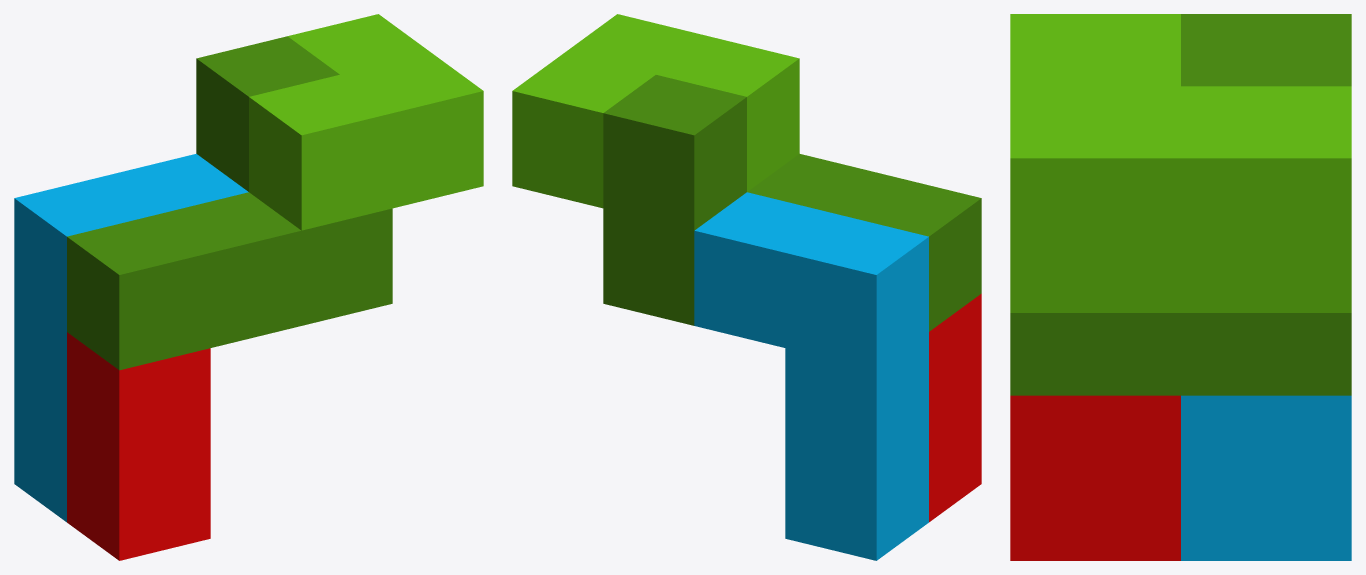
3 renders of one model, left to right at view 1: azimuth 30°, elevation 25°; view 2: azimuth 150°, elevation 25°; view 3: azimuth 270°, elevation 25°, orthographic. The views are drawn at different scales.
Visible parts, largest first — view 1: mergedBlocks(Clone); view 2: mergedBlocks(Clone); view 3: mergedBlocks(Clone).
Part boxes in pixels (bbox=[...]): mergedBlocks(Clone): bbox=[14, 14, 483, 560]; mergedBlocks(Clone): bbox=[512, 14, 981, 560]; mergedBlocks(Clone): bbox=[1010, 14, 1351, 560].
Size of the model in its own units: 4 by 4 by 2.
4 materials, 4 textured.
